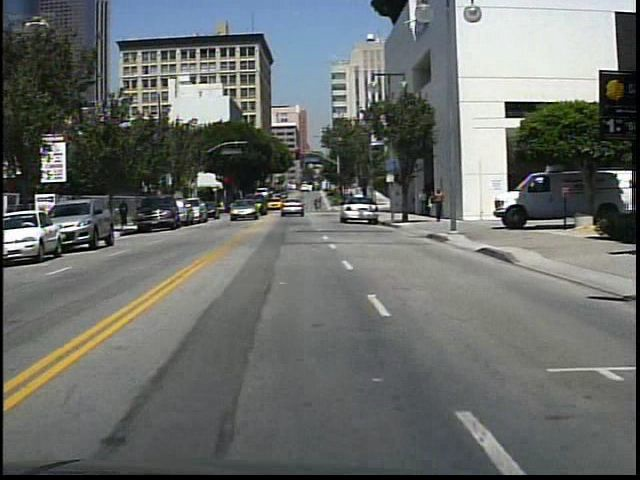person: (117, 198, 132, 228), (432, 188, 445, 221), (417, 186, 430, 217), (216, 196, 230, 219), (428, 189, 436, 219)
